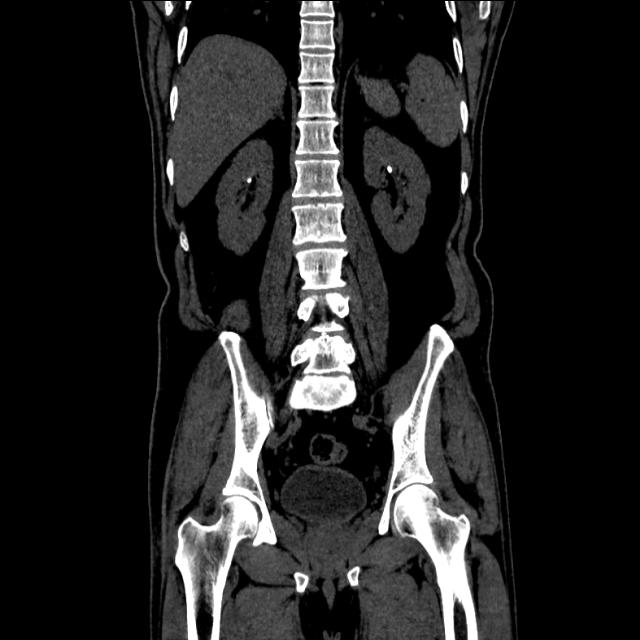kidney: (362, 127, 429, 252), (217, 137, 278, 256)
stone: (386, 165, 392, 174), (245, 178, 252, 182)
